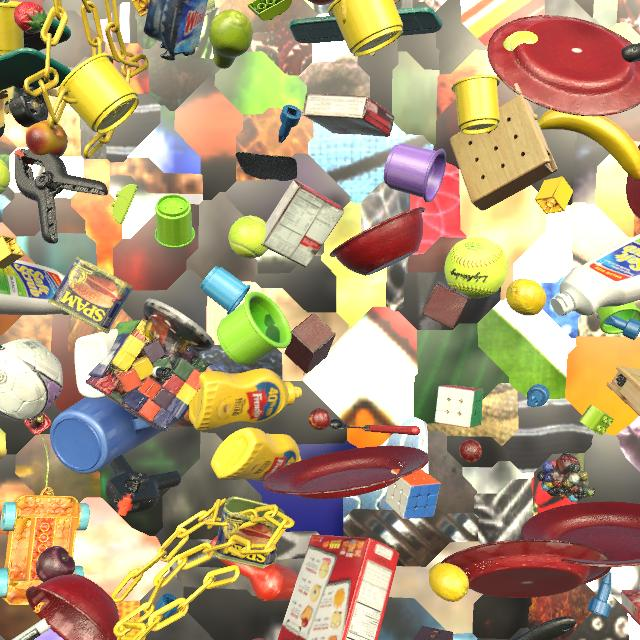ycb_002_master_chef_can: (0, 0, 9, 3)
ycb_003_cracker_box: (278, 534, 400, 640)
ycb_006_mustard_bottle: (189, 369, 302, 430), (211, 427, 301, 482)
ycb_008_pudding_box: (261, 179, 344, 268), (302, 93, 394, 137)
ycb_009_gelatin_box: (621, 590, 640, 625)
ycb_010_potted_meat_can: (48, 256, 133, 333), (214, 496, 284, 569)
ycb_011_banana: (538, 110, 640, 181)
ycb_012_strawberry: (14, 2, 47, 34)
ycb_014_lemon: (429, 562, 469, 602), (506, 279, 546, 316)
ycb_015_peach: (25, 120, 68, 157)
ycb_016_pear: (209, 10, 253, 69)
ycb_017_orange: (307, 0, 335, 5)
ycb_018_plum: (36, 546, 75, 582)
